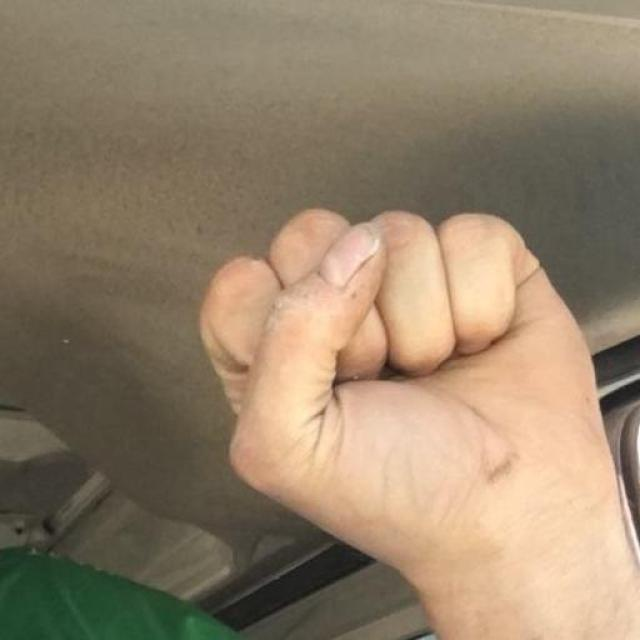hand: (199, 205, 640, 639)
